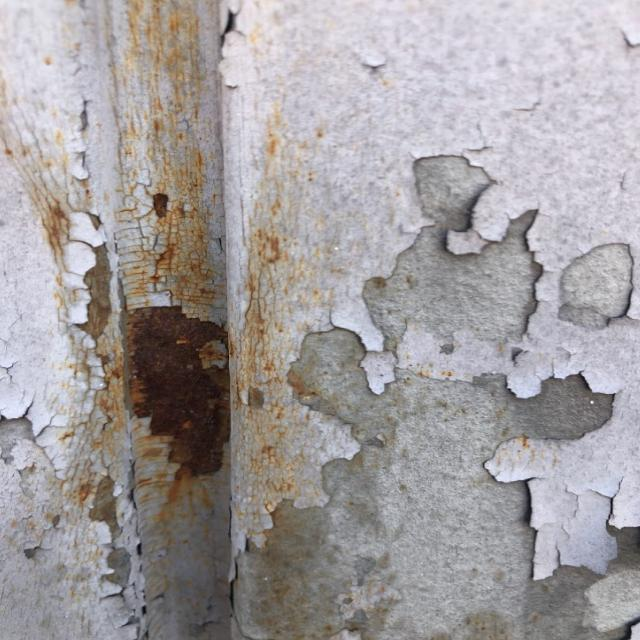Corrosion: (120, 290, 236, 484), (124, 231, 220, 298), (253, 218, 287, 274), (43, 199, 69, 252), (143, 191, 174, 218), (76, 479, 97, 506)
